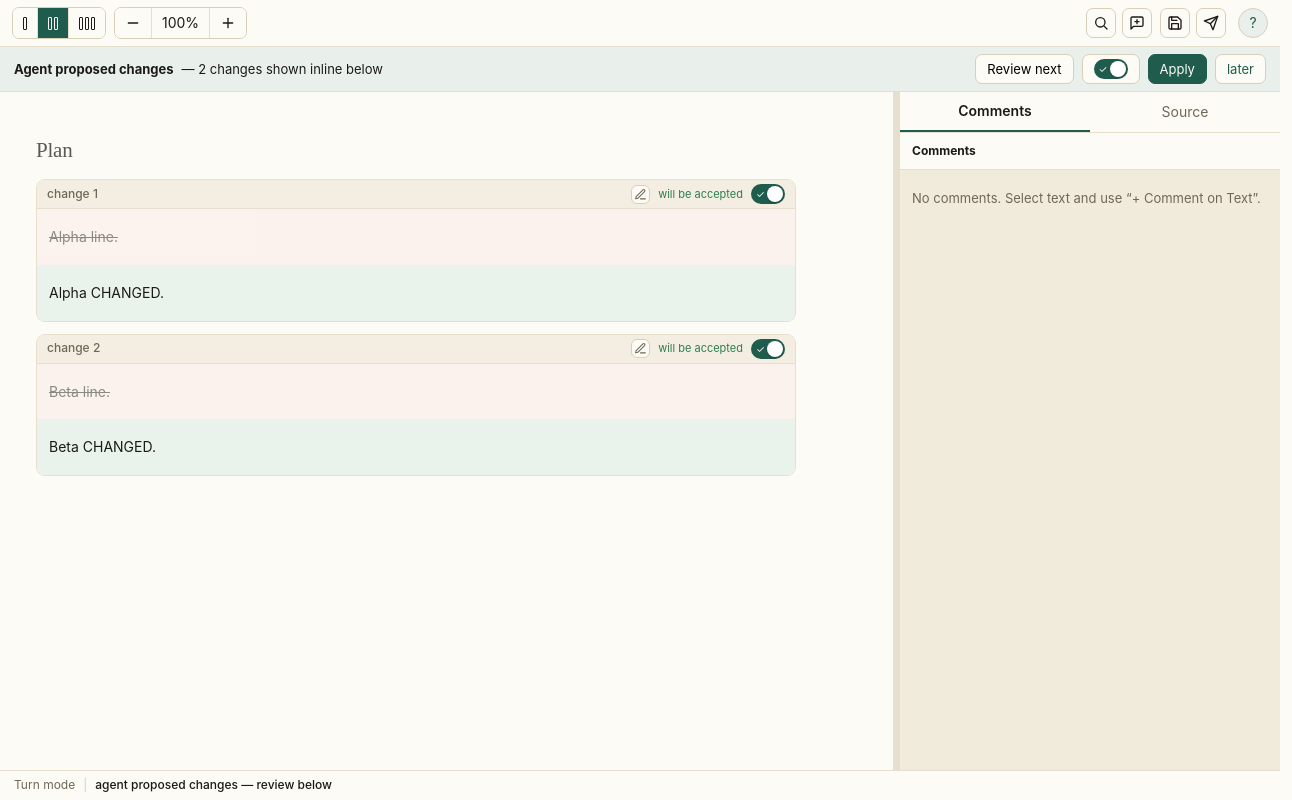
Test: App review decision matrix (memory-backed) › an edited hunk that is then REJECTED contributes neither the edit nor the proposal
The width and height of the screenshot is (1292, 800).
Edit change 1.
Click the button named "edit change 1".
click(641, 194)  # box x1=631 y1=185 x2=650 y2=204
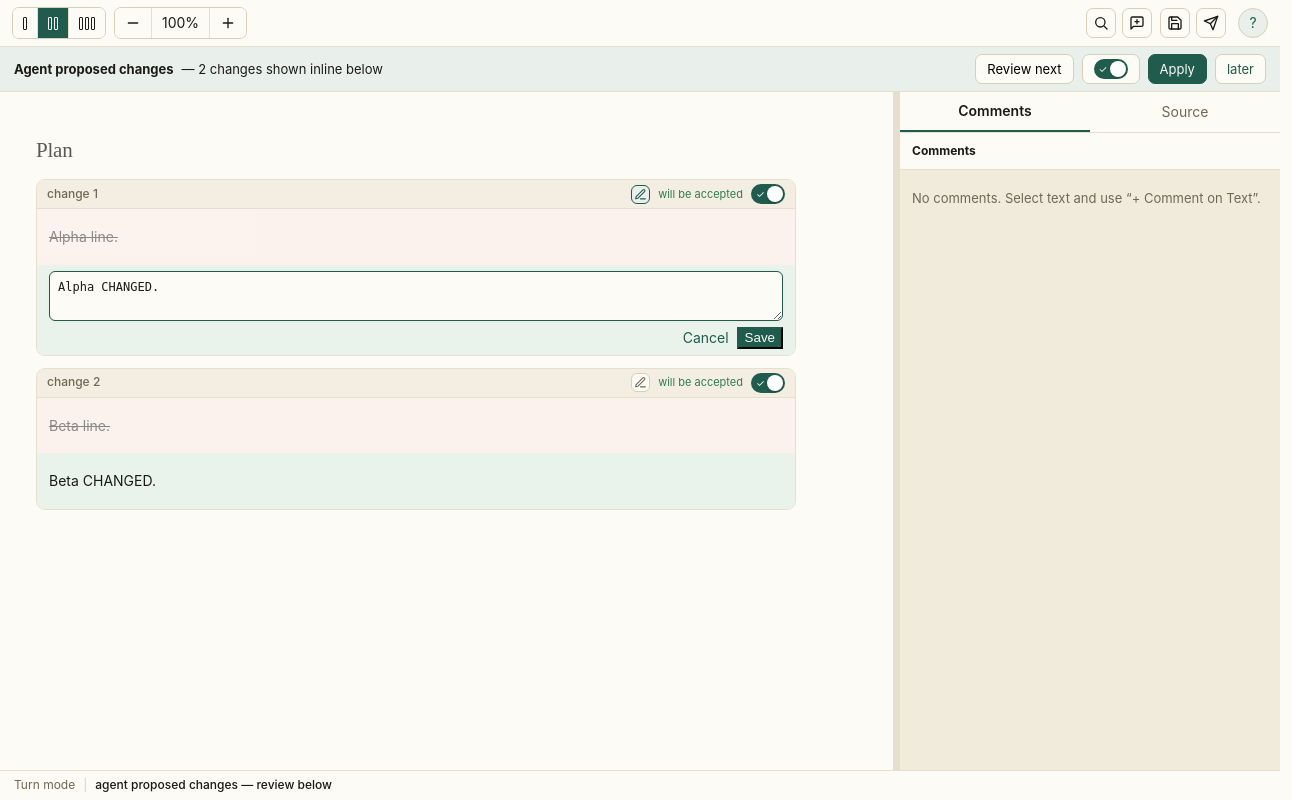
Replace the text in the text box named "edit change 1" with "Alpha EDITED." at point(416, 296), box x1=49 y1=271 x2=783 y2=321
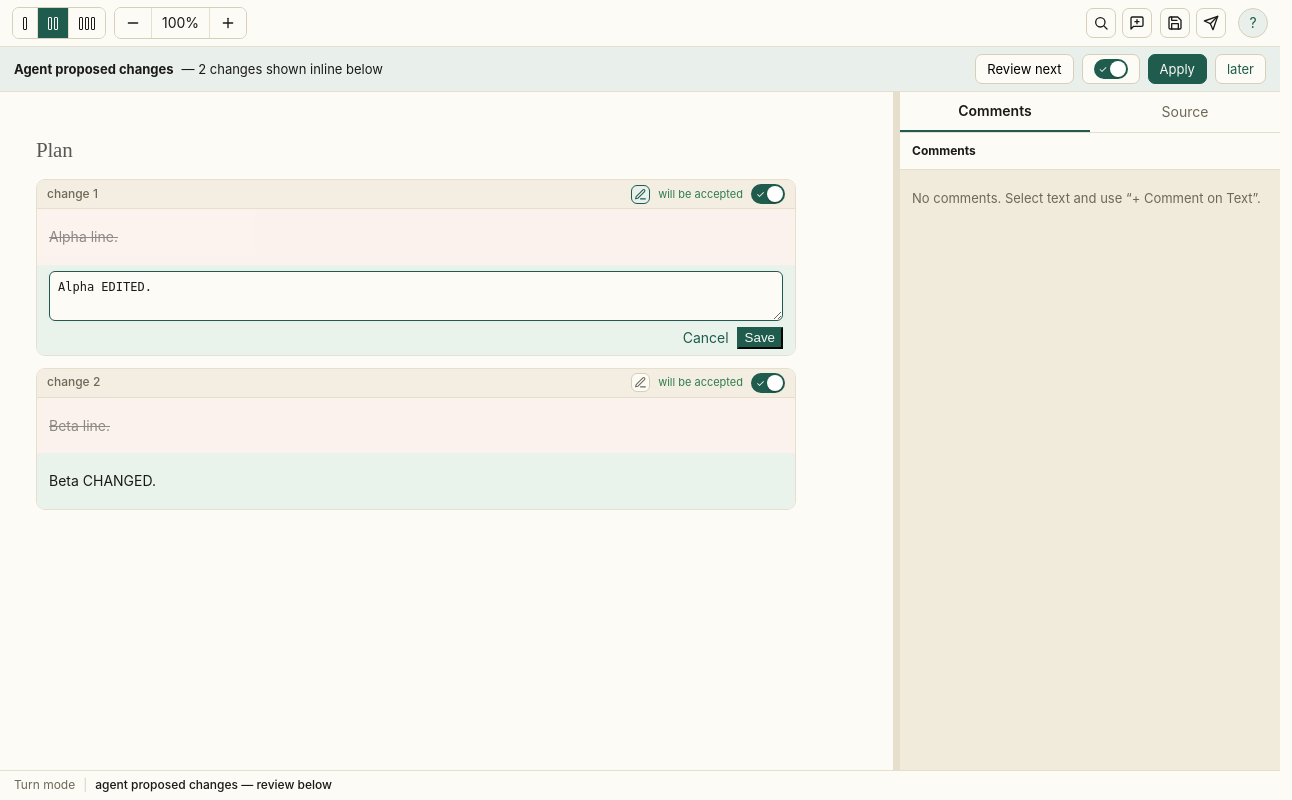
Click the button with aria-label "save edit".
click(760, 338)  # box x1=737 y1=327 x2=783 y2=348
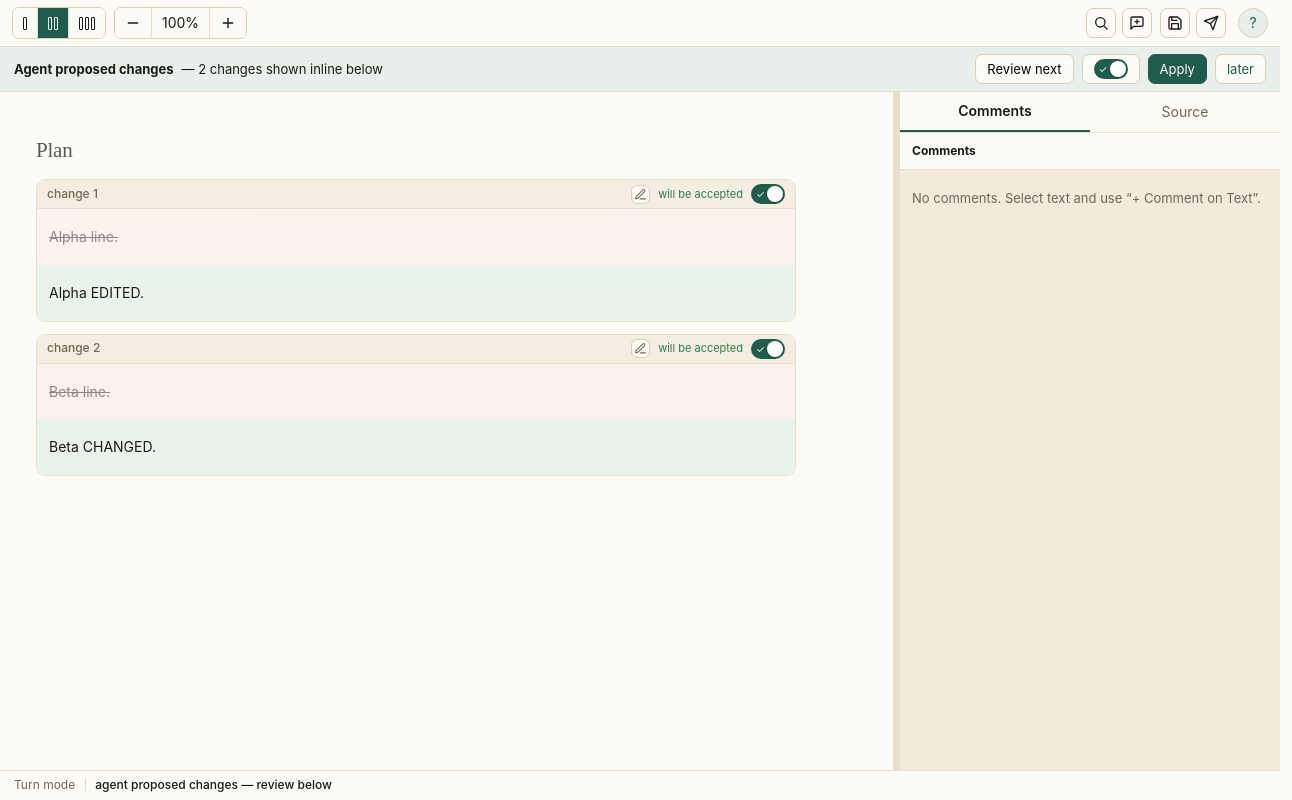
Check: the text "Alpha EDITED." is shown, box x1=49 y1=284 x2=144 y2=301
Click the switch named "accept change 1".
click(768, 194)  # box x1=751 y1=184 x2=785 y2=204
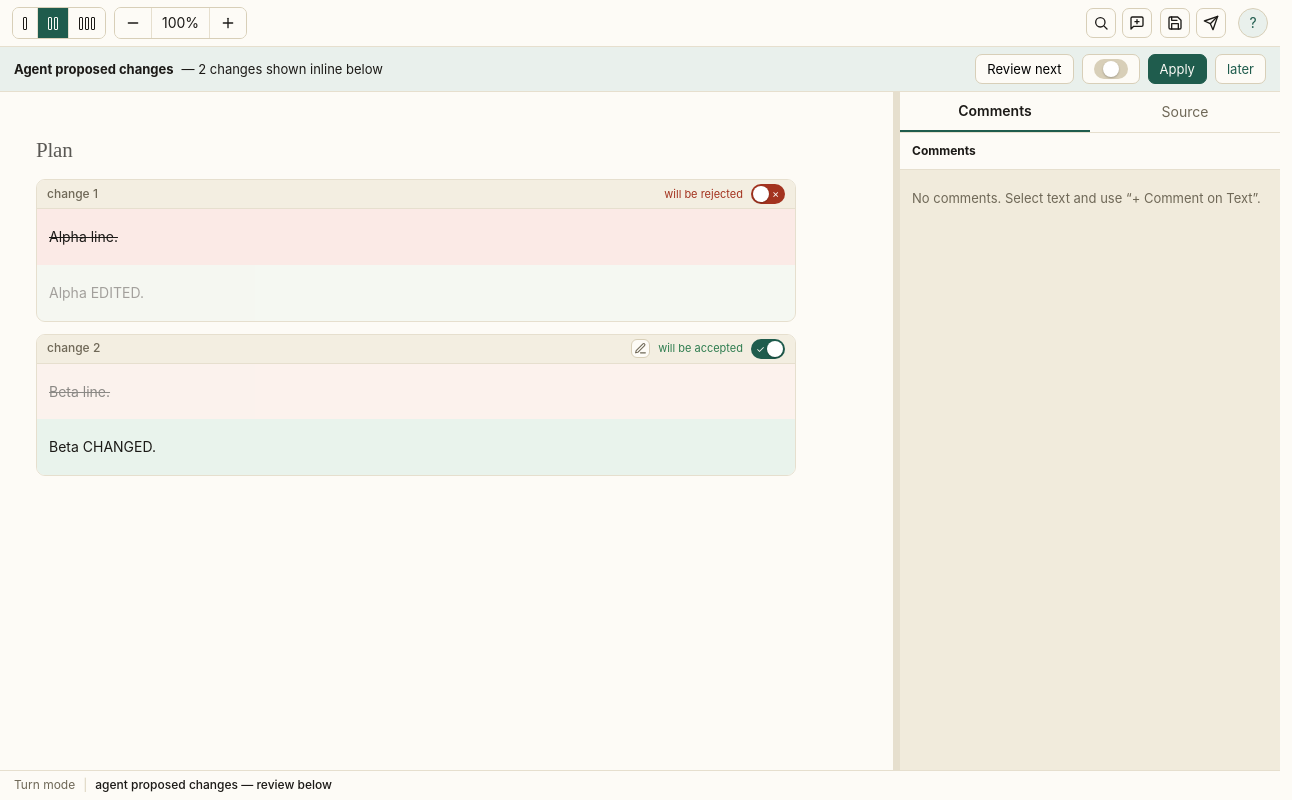
Check: the switch named "accept change 1" is not checked, box x1=751 y1=184 x2=785 y2=204
Click the button "Apply".
click(1177, 69)  # box x1=1148 y1=54 x2=1207 y2=84
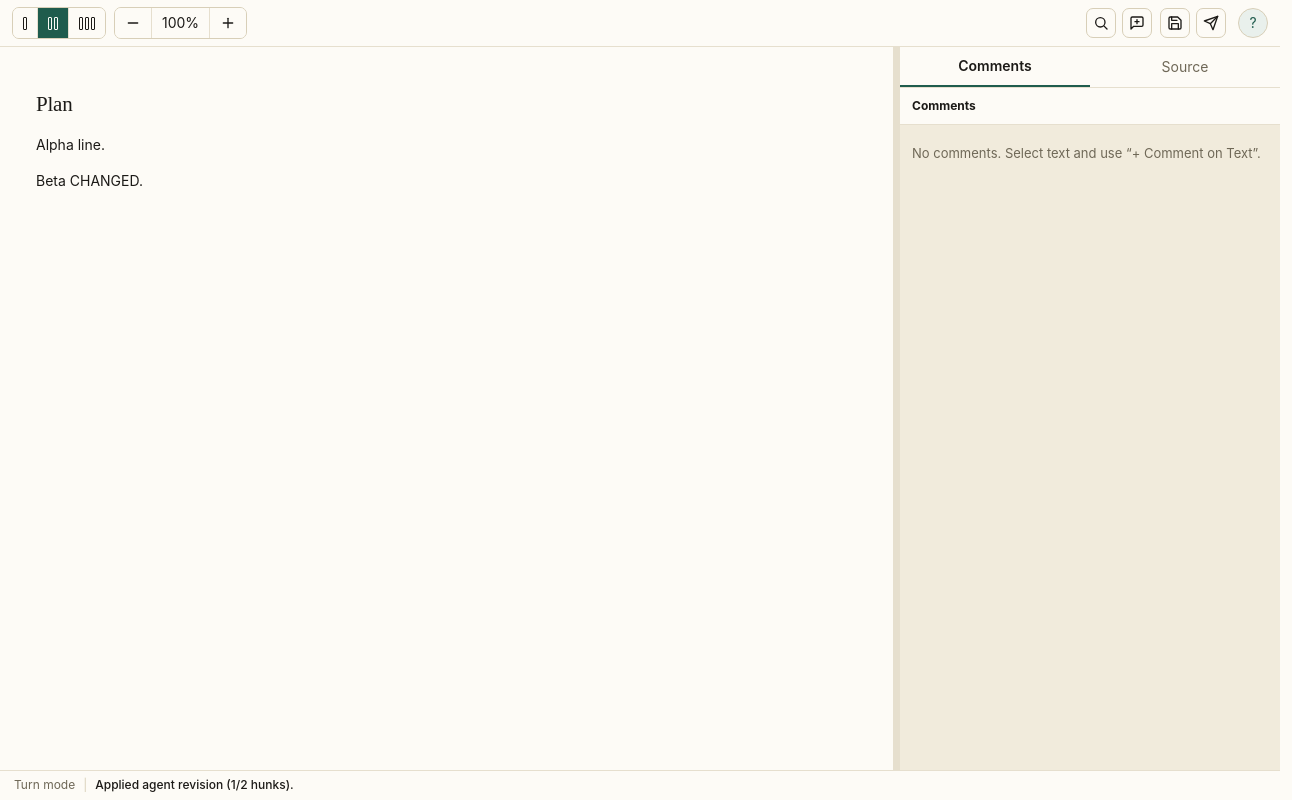
Check: the text "Alpha line." is shown, box x1=36 y1=136 x2=105 y2=153
Check: the text "Agent proposed changes" is gone
Check: the text "Alpha EDITED." is gone
